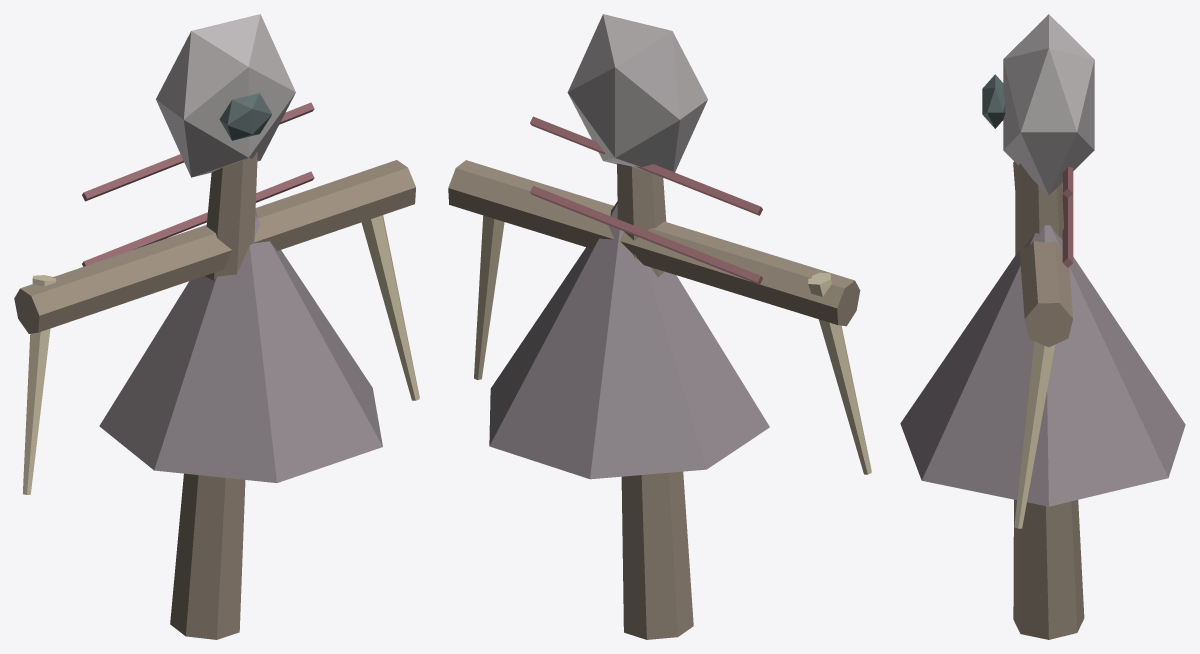
The model's file is false_scarecrow.glb.
3 views of the same model, side by side, from view 1: azimuth 30°, elevation 25°; view 2: azimuth 150°, elevation 25°; view 3: azimuth 270°, elevation 25° (orthographic).
Parts seen in each view (by area): view 1: false_scarecrow_material_02, false_scarecrow_material_00, false_scarecrow_material_01, false_scarecrow_material_03, false_scarecrow_material_04, false_scarecrow_material_06; view 2: false_scarecrow_material_02, false_scarecrow_material_00, false_scarecrow_material_01, false_scarecrow_material_03, false_scarecrow_material_04; view 3: false_scarecrow_material_02, false_scarecrow_material_00, false_scarecrow_material_01, false_scarecrow_material_03, false_scarecrow_material_04, false_scarecrow_material_06.
Part boxes in pixels (bbox=[...]): false_scarecrow_material_02: bbox=[99, 212, 382, 482]; false_scarecrow_material_00: bbox=[14, 152, 415, 639]; false_scarecrow_material_01: bbox=[156, 14, 295, 177]; false_scarecrow_material_03: bbox=[23, 215, 419, 494]; false_scarecrow_material_04: bbox=[82, 102, 314, 266]; false_scarecrow_material_06: bbox=[219, 93, 272, 140]; false_scarecrow_material_02: bbox=[489, 201, 769, 479]; false_scarecrow_material_00: bbox=[448, 160, 860, 639]; false_scarecrow_material_01: bbox=[567, 14, 707, 172]; false_scarecrow_material_03: bbox=[474, 215, 871, 474]; false_scarecrow_material_04: bbox=[530, 116, 762, 284]; false_scarecrow_material_02: bbox=[900, 225, 1185, 506]; false_scarecrow_material_00: bbox=[1013, 161, 1084, 639]; false_scarecrow_material_01: bbox=[1003, 14, 1094, 195]; false_scarecrow_material_03: bbox=[1014, 341, 1055, 528]; false_scarecrow_material_04: bbox=[1062, 167, 1073, 267]; false_scarecrow_material_06: bbox=[982, 74, 1005, 128].
Bounding box in the file's own units: 1.21 × 1.74 × 0.7451.
